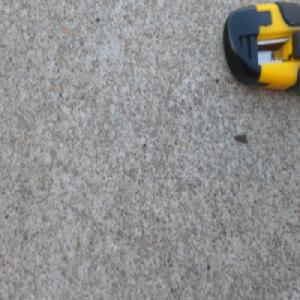Cutter: (222, 0, 300, 92)
